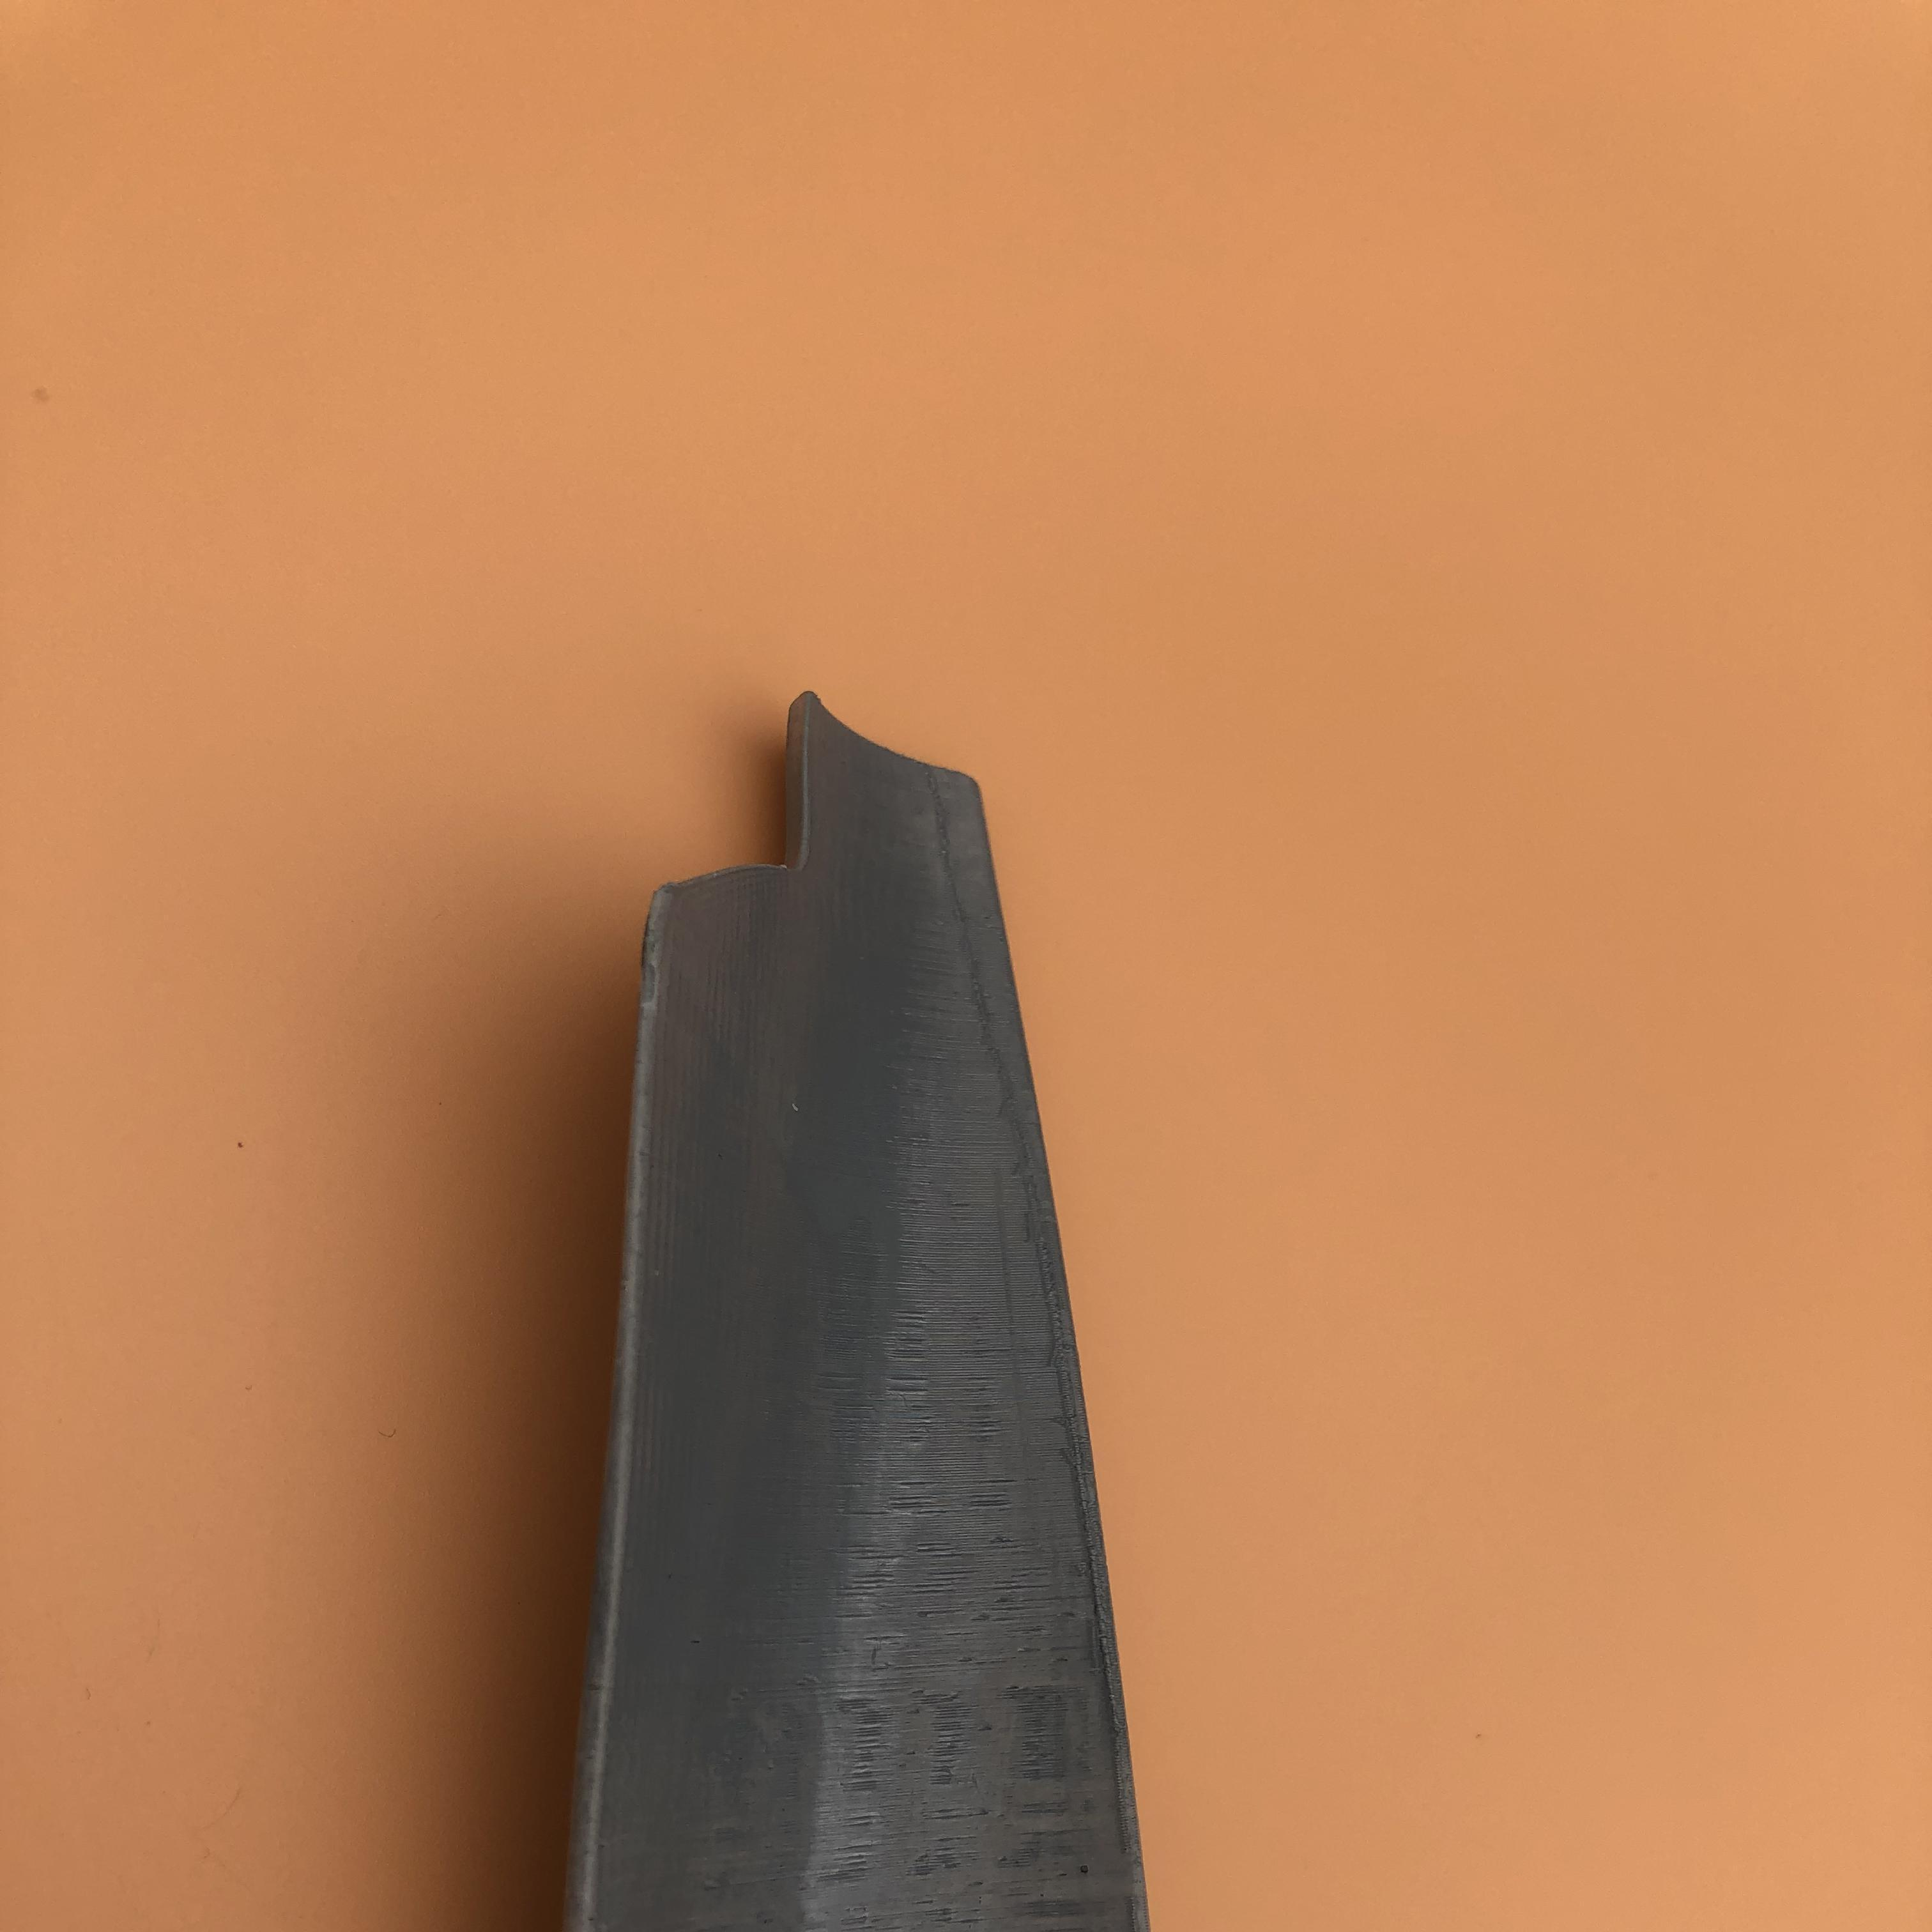fracture: (649, 732, 865, 911)
